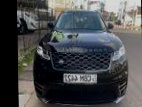car: (31, 9, 129, 107)
